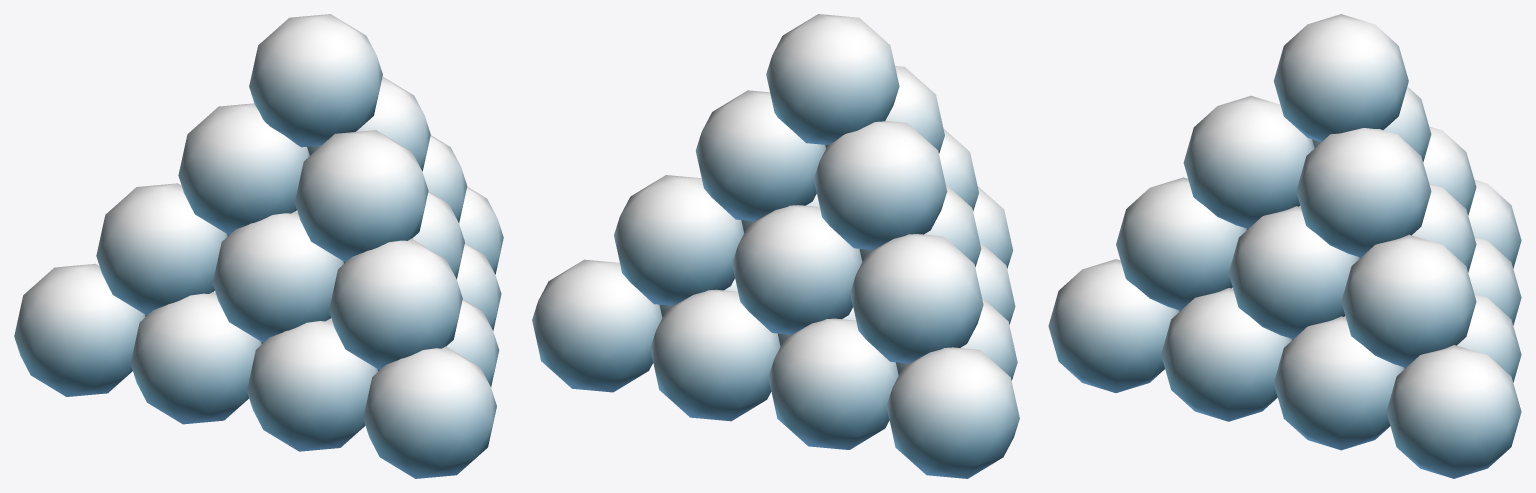
The model's file is snowball_pile.fbx.
The picture shows the model from 3 angles, left to right: view 1: azimuth 30°, elevation 25°; view 2: azimuth 150°, elevation 25°; view 3: azimuth 270°, elevation 25°; orthographic projection.
Visible parts, largest first — view 1: snowball_pile; view 2: snowball_pile; view 3: snowball_pile.
Part boxes in pixels (box(x1,y1,x2,y2)): snowball_pile: box(14, 14, 503, 478); snowball_pile: box(532, 14, 1019, 478); snowball_pile: box(1048, 14, 1521, 478).
Size of the model in its own units: 119 by 90 by 105.
